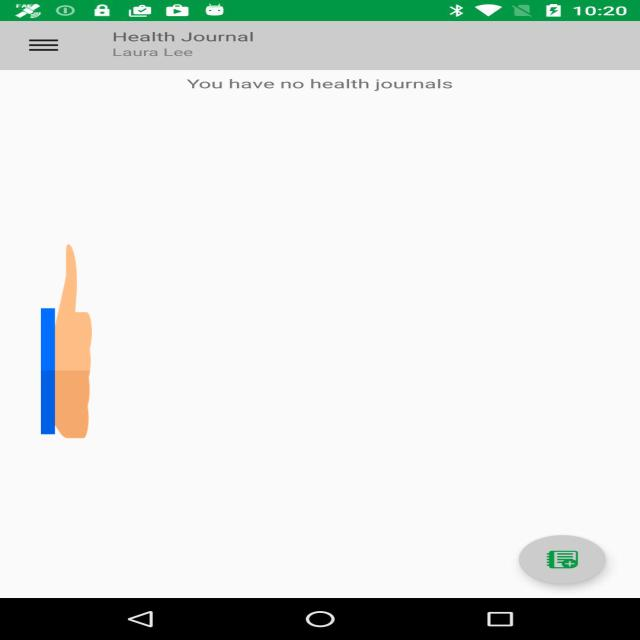privacy zuckering: (41, 239, 92, 443)
